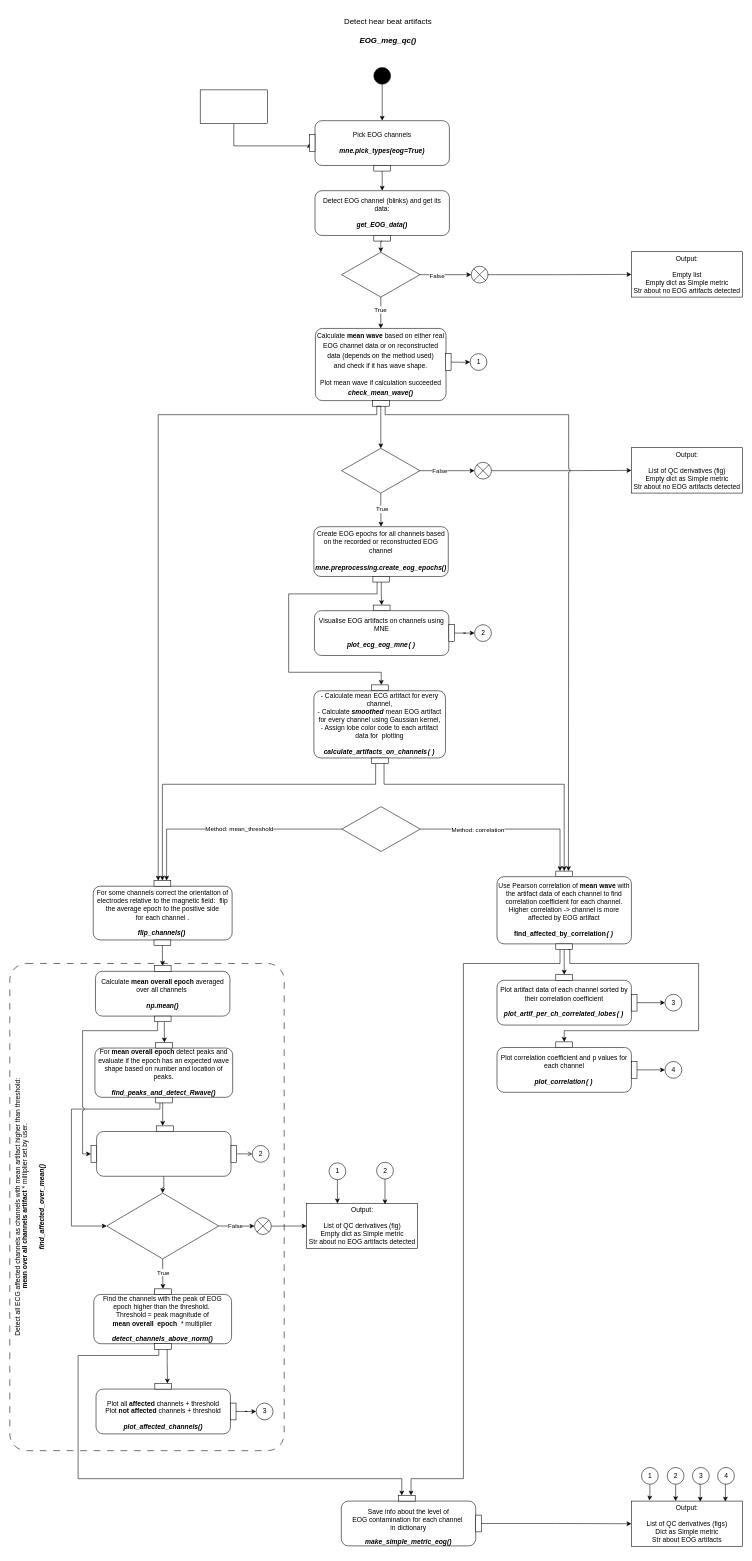
This 752x1561 diagram has some shape labels left out. Each missing label, with the centre of its shape:
"Choose method" belongs at [380,828].
"EOG channel present?" belongs at [380,274].
"Input: Raw data, Config parameters" belongs at [233,106].
"Mean overall epoch has expected shape (prominent peak at specific time point)?" belongs at [162,1226].
"Mean wave is good?" belongs at [380,470].
"Plot mean overall epoch and highlight detected peaks plot_epoch_and_peak()" belongs at [163,1153].
